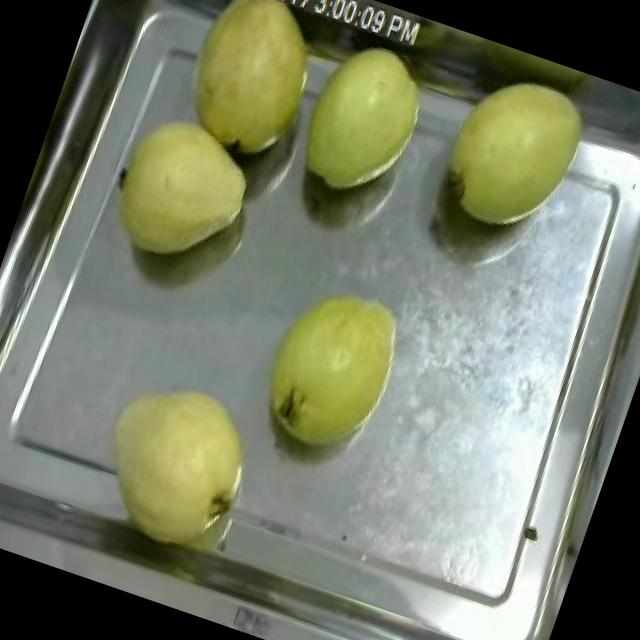Fruit: (76, 358, 279, 570), (418, 48, 610, 256), (238, 262, 424, 472), (273, 14, 451, 222), (90, 90, 276, 287), (156, 0, 347, 183)
